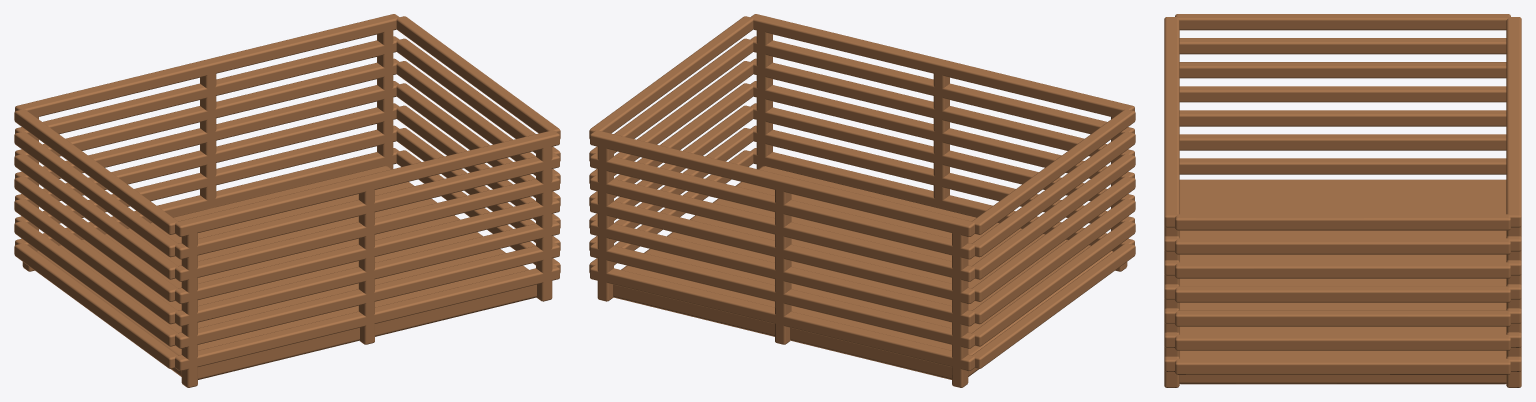
Rendered from wp-corbeille-a-pain.glb.
3 renders of one model, left to right at view 1: azimuth 30°, elevation 25°; view 2: azimuth 150°, elevation 25°; view 3: azimuth 270°, elevation 25°, orthographic. The views are drawn at different scales.
Visible parts, largest first — view 1: wp-corbeille-a-pain; view 2: wp-corbeille-a-pain; view 3: wp-corbeille-a-pain.
Part boxes in pixels (box(x1,y1,x2,y2)): wp-corbeille-a-pain: box(14, 14, 560, 387); wp-corbeille-a-pain: box(589, 14, 1135, 387); wp-corbeille-a-pain: box(1164, 14, 1521, 387).
Size of the model in its own units: 0.3 by 0.12 by 0.22.
